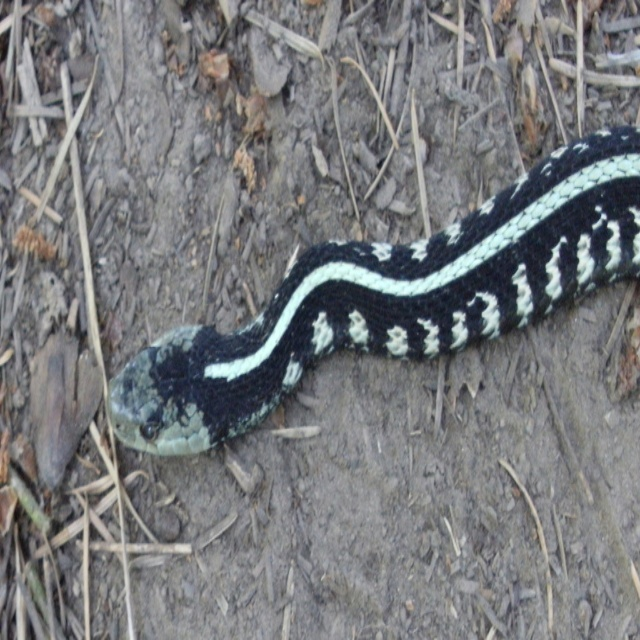Snake: (107, 121, 640, 459)
